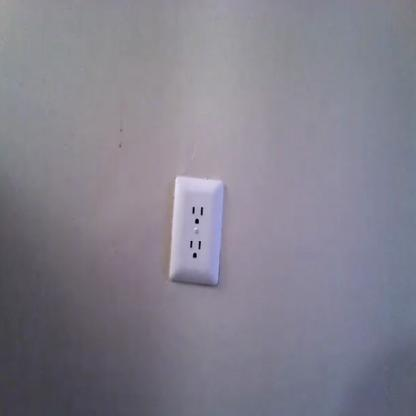OUTLET: (170, 176, 222, 285)
